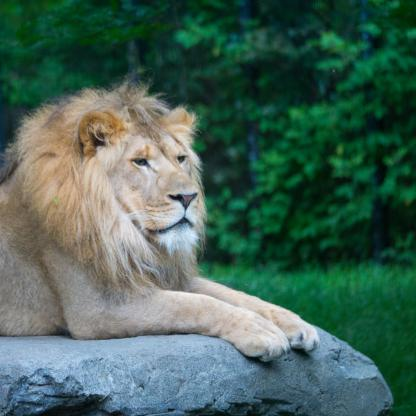lion: (54, 85, 214, 258)
